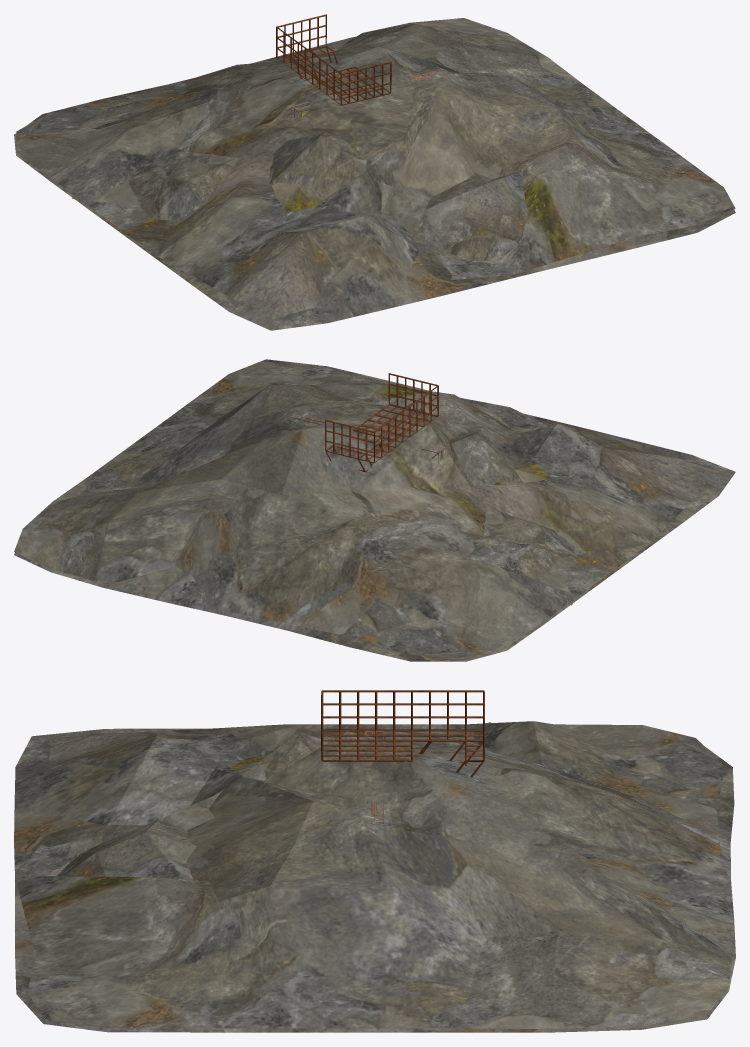
Rendered from billboard_4.glb.
3 renders of one model, top to bottom at view 1: azimuth 30°, elevation 25°; view 2: azimuth 150°, elevation 25°; view 3: azimuth 270°, elevation 25°, orthographic. The views are drawn at different scales.
Visible parts, largest first — view 1: Wreckage 2, Wreckage 3, Wreckage 1, FireStairs; view 2: Wreckage 2, Wreckage 1, Wreckage 3, FireStairs; view 3: Wreckage 2, Wreckage 1, Wreckage 3, FireStairs.
Boxes of the visible parts, x1,y1,x2,y2 form: Wreckage 2: [16, 18, 735, 319]; Wreckage 3: [72, 132, 527, 261]; Wreckage 1: [14, 36, 735, 330]; FireStairs: [276, 14, 391, 105]; Wreckage 2: [14, 359, 718, 657]; Wreckage 1: [14, 365, 735, 661]; Wreckage 3: [367, 391, 578, 605]; FireStairs: [325, 373, 438, 472]; Wreckage 2: [15, 721, 732, 1029]; Wreckage 1: [14, 728, 735, 1032]; Wreckage 3: [57, 722, 492, 879]; FireStairs: [321, 690, 484, 777].
Bounding box in the file's own units: 20.22 × 4.91 × 20.08.
Materials: 3 (3 with a texture image).
